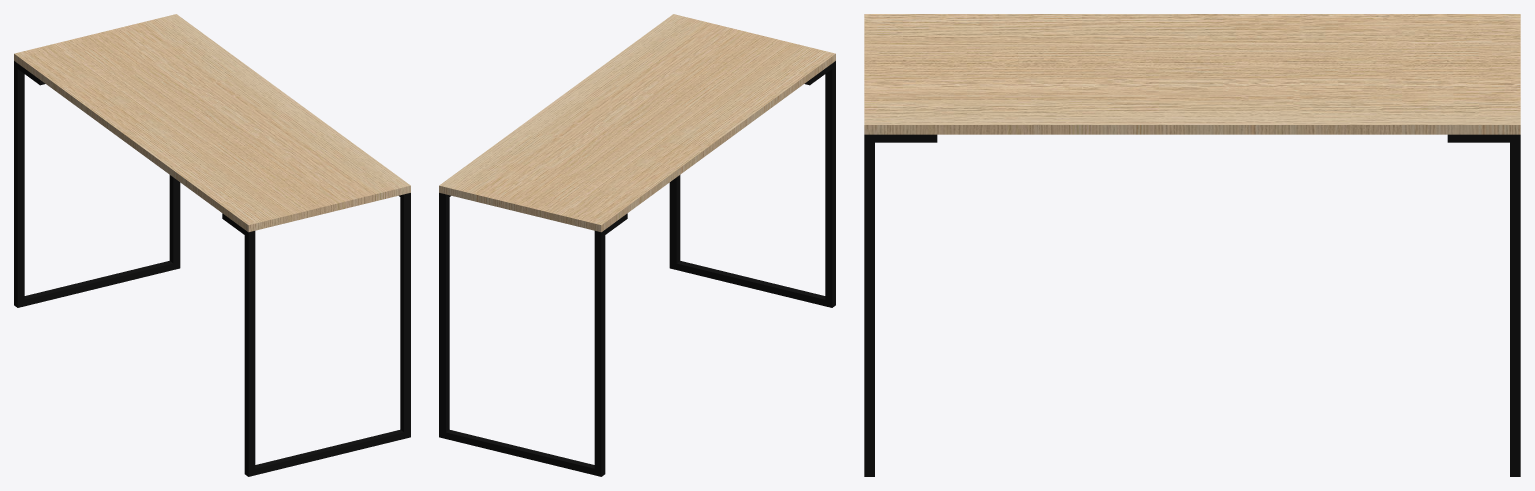
Rendered from Agora.glb.
3 renders of one model, left to right at view 1: azimuth 30°, elevation 25°; view 2: azimuth 150°, elevation 25°; view 3: azimuth 270°, elevation 25°, orthographic. The views are drawn at different scales.
Visible parts, largest first — view 1: Componente#26, Component#20, Component#21; view 2: Componente#26, Component#21, Component#20; view 3: Componente#26, Component#21, Component#20.
Boxes of the visible parts, left/top/right/bottom form: Componente#26: left=14, top=14, right=410, bottom=232; Component#20: left=222, top=193, right=410, bottom=476; Component#21: left=14, top=61, right=180, bottom=307; Componente#26: left=439, top=14, right=835, bottom=232; Component#21: left=439, top=193, right=627, bottom=476; Component#20: left=669, top=61, right=835, bottom=307; Componente#26: left=864, top=14, right=1520, bottom=134; Component#21: left=1447, top=134, right=1520, bottom=476; Component#20: left=864, top=134, right=937, bottom=476.
Bounding box in the file's own units: 0.504 × 0.7462 × 1.26.
39 materials, 6 textured.
